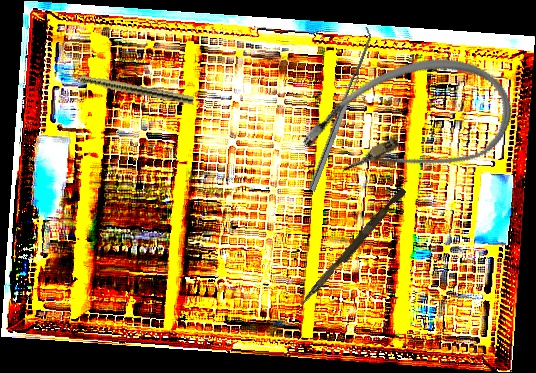Cannula: (289, 33, 526, 217)
Handpiece: (53, 67, 195, 106)
Pusher: (299, 184, 407, 311)
Spatula Surgical: (302, 26, 377, 192)
